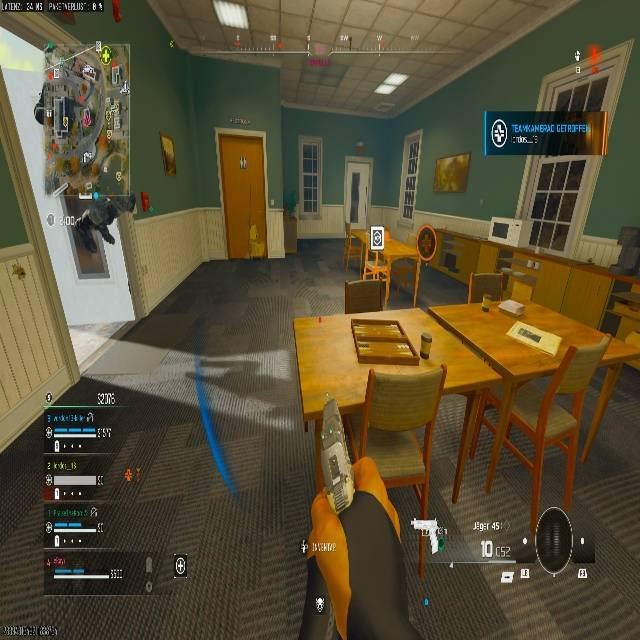player: (68, 196, 117, 264)
